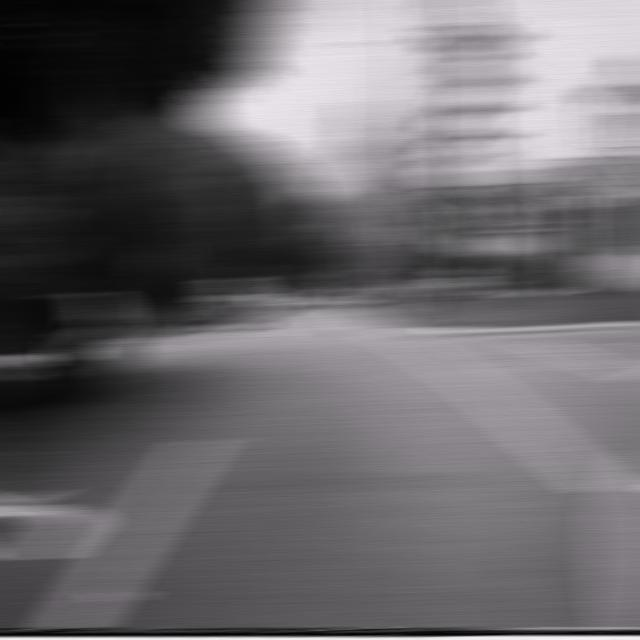pedestrianCrossing: (381, 210, 424, 247)
